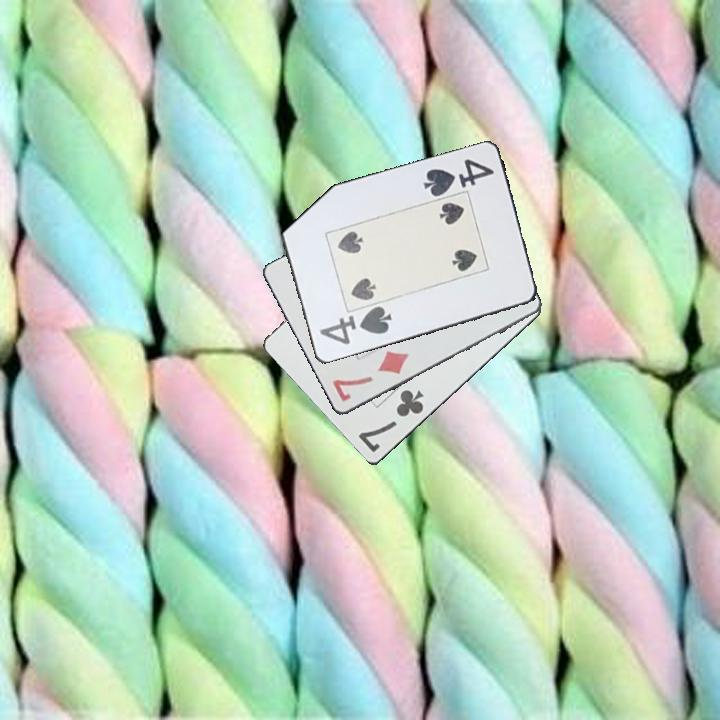4s: (315, 303, 395, 348), (417, 156, 497, 200)
7c: (354, 386, 427, 456)
7d: (329, 347, 412, 405)
